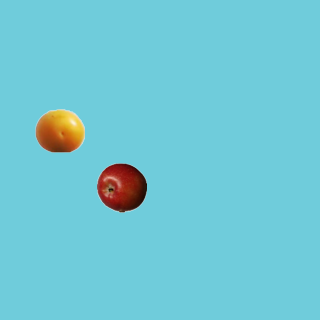Apple Braeburn: (96, 162, 146, 212)
Cherry Wax Yellow: (34, 105, 84, 155)
